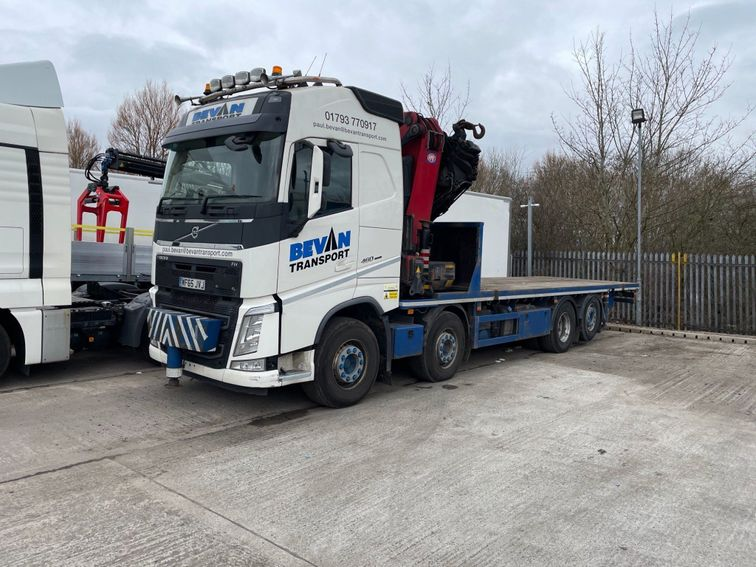Semi: (148, 66, 637, 409)
